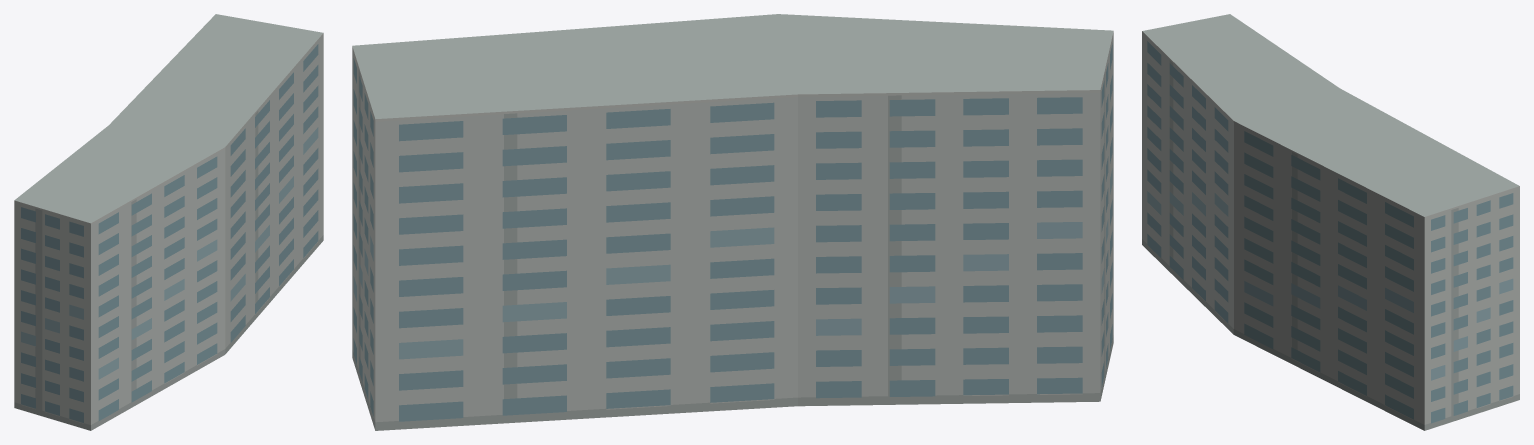
Rendered from residential-62cd007c-6695-4f9a-852d-bea72f816621.glb.
3 views of the same model, side by side, from view 1: azimuth 30°, elevation 25°; view 2: azimuth 150°, elevation 25°; view 3: azimuth 270°, elevation 25° (orthographic). The views are drawn at different scales.
Visible parts, largest first — view 1: residential-62cd007c-6695-4f9a-852d-bea72f816621.tmp; view 2: residential-62cd007c-6695-4f9a-852d-bea72f816621.tmp; view 3: residential-62cd007c-6695-4f9a-852d-bea72f816621.tmp.
Boxes of the visible parts, bbox=[...] form: residential-62cd007c-6695-4f9a-852d-bea72f816621.tmp: bbox=[14, 14, 323, 430]; residential-62cd007c-6695-4f9a-852d-bea72f816621.tmp: bbox=[352, 14, 1113, 430]; residential-62cd007c-6695-4f9a-852d-bea72f816621.tmp: bbox=[1142, 14, 1519, 430].
Size of the model in its own units: 62.11 by 30.5 by 48.84.
